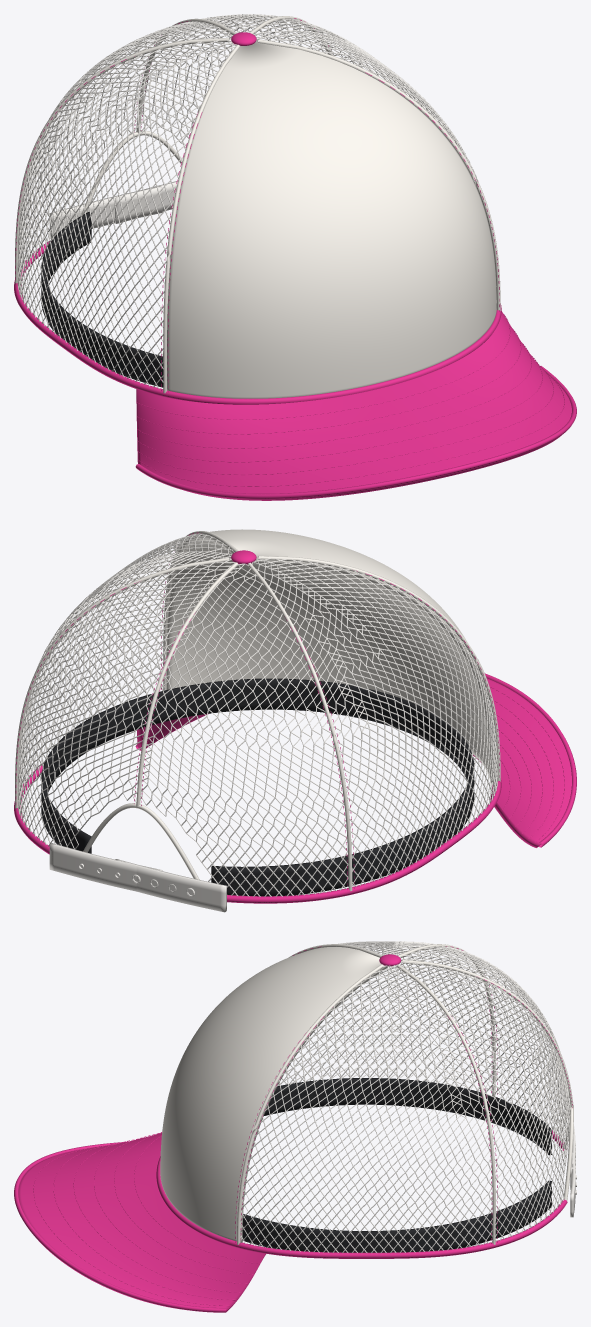
File: trucker-pink.glb
3 renders of one model, top to bottom at view 1: azimuth 30°, elevation 25°; view 2: azimuth 150°, elevation 25°; view 3: azimuth 270°, elevation 25°, orthographic. The views are drawn at different scales.
Visible parts, largest first — view 1: Front panel / color / complete construction, Brim / color / complete construction, Open mesh / color / complete construction, Interior sweatband / complete construction, Topstitch / color / complete construction, Snapback / color / complete construction; view 2: Open mesh / color / complete construction, Front panel / color / complete construction, Interior sweatband / complete construction, Brim / color / complete construction, Snapback / color / complete construction, Topstitch / color / complete construction; view 3: Open mesh / color / complete construction, Front panel / color / complete construction, Brim / color / complete construction, Interior sweatband / complete construction, Topstitch / color / complete construction.
Boxes of the visible parts, <box> form: Front panel / color / complete construction: <box>15,16,500,398</box>; Brim / color / complete construction: <box>14,32,576,500</box>; Open mesh / color / complete construction: <box>17,14,496,389</box>; Interior sweatband / complete construction: <box>41,212,163,387</box>; Topstitch / color / complete construction: <box>15,18,564,486</box>; Snapback / color / complete construction: <box>49,181,177,238</box>; Open mesh / color / complete construction: <box>18,533,497,896</box>; Front panel / color / complete construction: <box>15,529,500,891</box>; Interior sweatband / complete construction: <box>41,678,474,896</box>; Brim / color / complete construction: <box>14,550,576,903</box>; Snapback / color / complete construction: <box>49,843,226,912</box>; Topstitch / color / complete construction: <box>15,532,564,889</box>; Open mesh / color / complete construction: <box>240,941,570,1253</box>; Front panel / color / complete construction: <box>160,944,573,1244</box>; Brim / color / complete construction: <box>14,954,567,1312</box>; Interior sweatband / complete construction: <box>242,1078,551,1252</box>; Topstitch / color / complete construction: <box>33,946,572,1306</box>.
Bounding box in the file's own units: 0.2024 × 0.1506 × 0.2816.
